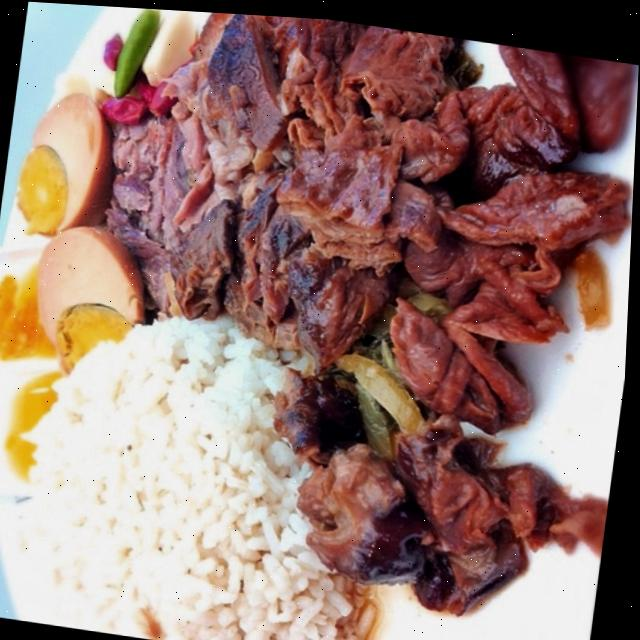猪肉菜式: (0, 1, 620, 640)
